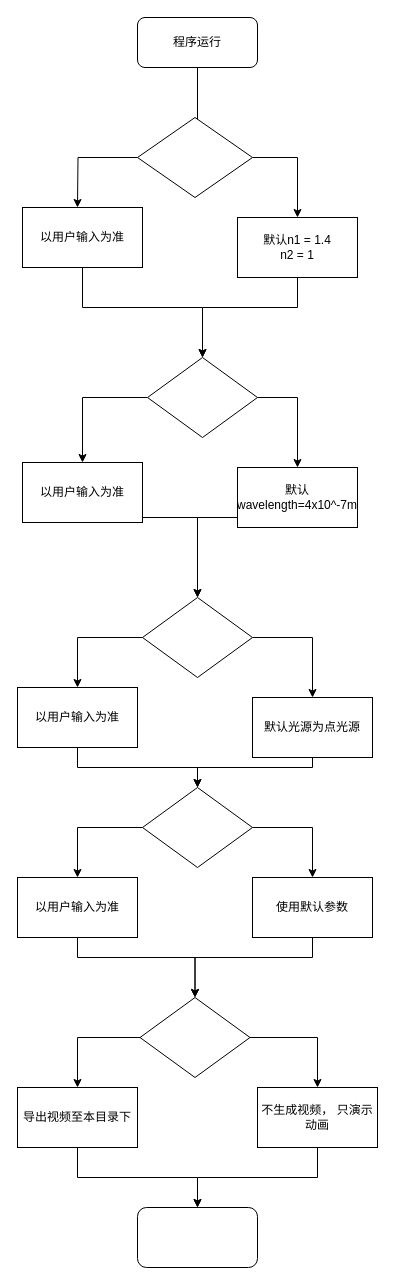
Some shapes in this 395 by 1285 pixel diagram are drawn without their labels. Each missing label, with the centre of its shape:
"是否导出视频" goes at [194,1037].
"用户是否指定光源类型" goes at [197,637].
"用户是否指定其他参数" goes at [197,827].
"用户是否输入 有效波长wavelength" goes at [202,397].
"用户是否输入有效n1, n2" goes at [194,157].
"程序结束" goes at [197,1237].
